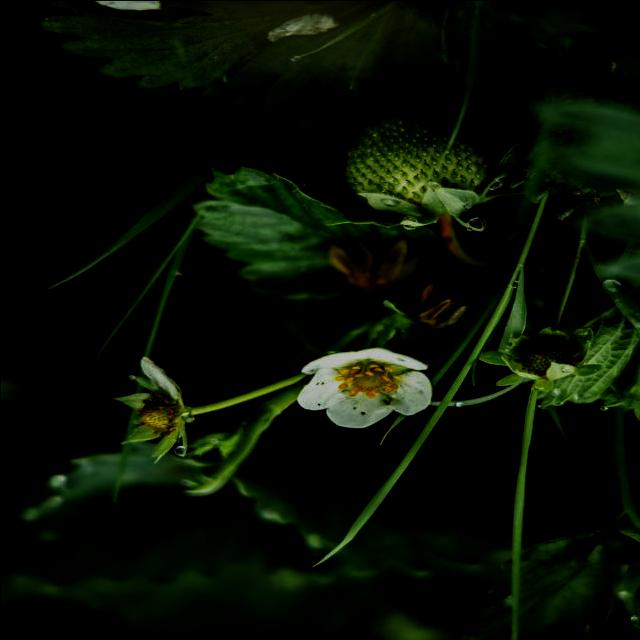unripe: (332, 102, 504, 222), (490, 322, 590, 390)
